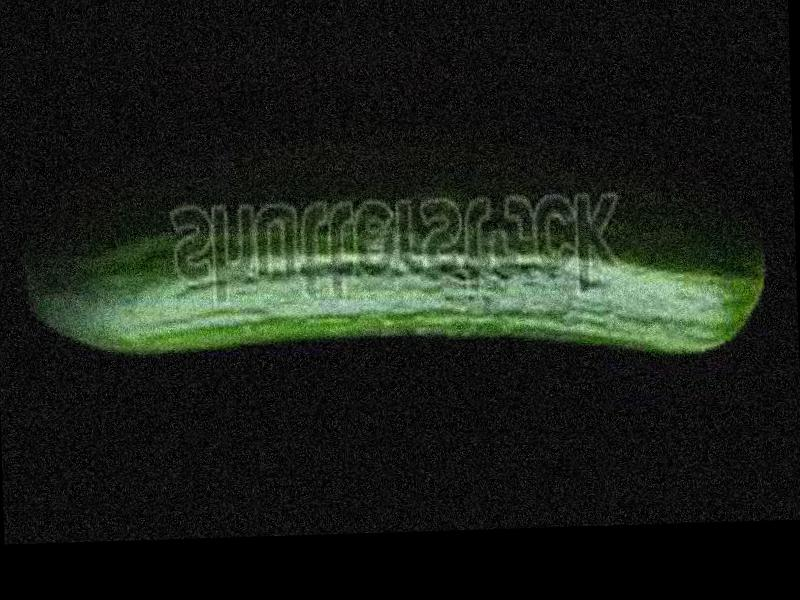Cucumber: (24, 180, 771, 369)
